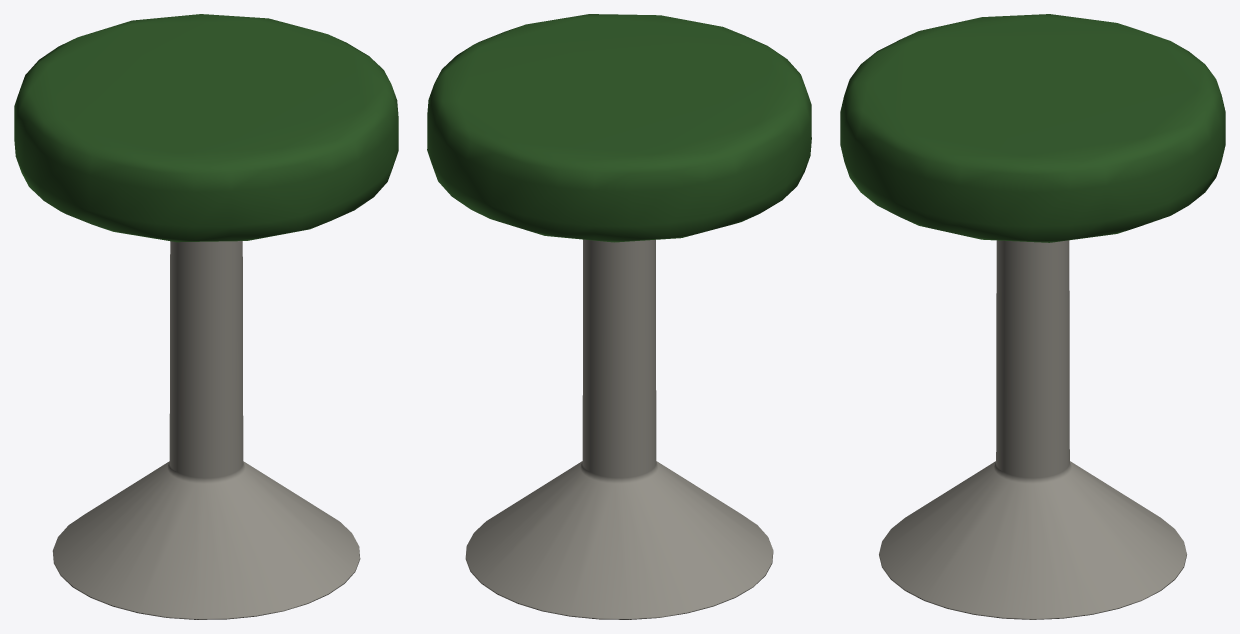
Rendered from barstool_03_green.fbx.
3 renders of one model, left to right at view 1: azimuth 30°, elevation 25°; view 2: azimuth 150°, elevation 25°; view 3: azimuth 270°, elevation 25°, orthographic.
Parts seen in each view (by area): view 1: barstool_03_green; view 2: barstool_03_green; view 3: barstool_03_green.
Boxes of the visible parts, x1,y1,x2,y2 form: barstool_03_green: (14,14,398,619); barstool_03_green: (427,14,811,619); barstool_03_green: (840,14,1225,619).
Size of the model in its own units: 52.72 by 70.84 by 52.72.
Materials: 2 (2 with a texture image).
